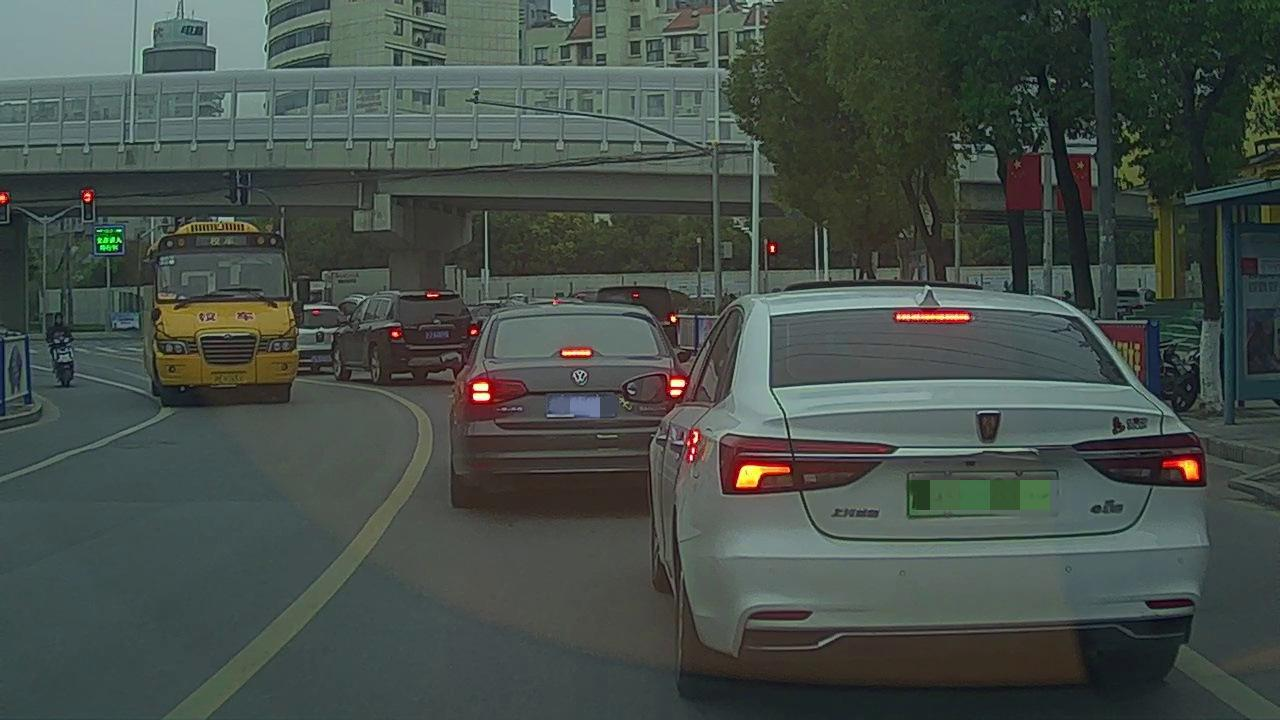traffic_light: (81, 191, 93, 226)
